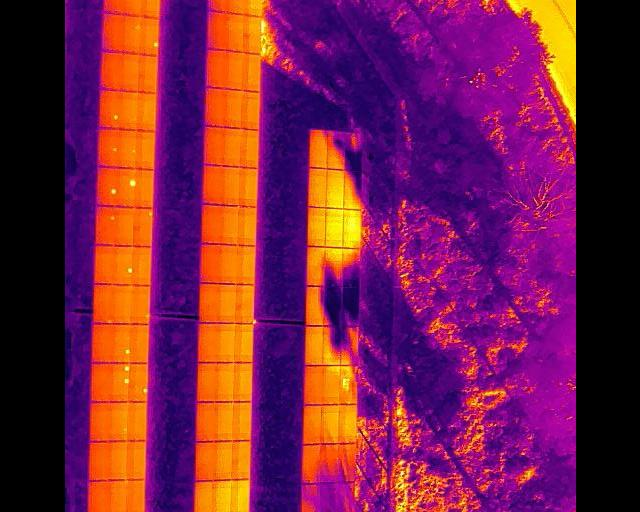Cell: (94, 205, 118, 245), (92, 285, 115, 324), (97, 128, 118, 167), (97, 167, 118, 206), (98, 90, 119, 129), (133, 208, 152, 247), (140, 17, 158, 55), (129, 364, 147, 402), (118, 168, 135, 208), (132, 285, 149, 324), (116, 246, 133, 285), (118, 130, 135, 168), (114, 324, 130, 363), (141, 0, 158, 18)
Cell-Multi: (113, 363, 130, 402)
No-Anomaly: (93, 246, 115, 285), (92, 324, 114, 363), (203, 87, 224, 127), (205, 51, 227, 89), (100, 52, 122, 90), (91, 364, 113, 402), (196, 362, 216, 402), (195, 402, 215, 442), (207, 12, 227, 51), (199, 244, 219, 283), (197, 324, 217, 363), (90, 442, 110, 481), (90, 402, 110, 441), (236, 206, 255, 246), (232, 362, 251, 402), (204, 127, 224, 165), (198, 284, 217, 324), (127, 401, 146, 441), (308, 130, 327, 169), (235, 246, 254, 285), (231, 402, 250, 441), (200, 205, 219, 244), (136, 92, 155, 131), (104, 14, 124, 51), (306, 247, 324, 288), (203, 164, 221, 205), (220, 128, 239, 166), (240, 53, 259, 91), (138, 54, 157, 92), (136, 131, 155, 169), (324, 208, 342, 248), (307, 168, 325, 208), (304, 326, 322, 366), (301, 444, 319, 484), (195, 442, 213, 482), (135, 168, 153, 208), (231, 440, 249, 480), (325, 169, 343, 208), (321, 366, 339, 405), (304, 366, 322, 405), (303, 405, 321, 444), (239, 129, 257, 168), (234, 285, 252, 324), (213, 442, 231, 481), (130, 324, 148, 363), (127, 441, 145, 480), (234, 323, 252, 362), (307, 207, 324, 248), (242, 15, 260, 53), (240, 91, 258, 129), (239, 168, 257, 206), (86, 481, 108, 512), (342, 208, 359, 248), (216, 323, 233, 363), (216, 363, 233, 403), (110, 402, 127, 442), (338, 405, 355, 444), (221, 167, 238, 206), (219, 206, 236, 245), (123, 16, 140, 55), (116, 285, 133, 324), (217, 285, 234, 324), (321, 406, 338, 444), (133, 247, 150, 285), (118, 92, 135, 130), (215, 402, 231, 442), (224, 89, 240, 128), (219, 245, 235, 284), (110, 441, 126, 480), (125, 480, 144, 512), (122, 54, 138, 92), (118, 207, 133, 246), (229, 480, 247, 512), (227, 14, 242, 52), (212, 481, 230, 512), (108, 480, 125, 512), (194, 482, 212, 512), (227, 52, 241, 89), (104, 0, 125, 15), (125, 0, 141, 16), (208, 0, 228, 12), (228, 0, 244, 13)
Shadowing: (345, 132, 363, 172), (324, 247, 342, 287), (322, 326, 340, 366), (320, 443, 338, 483), (342, 172, 360, 211), (305, 287, 323, 326), (323, 288, 341, 326), (341, 248, 358, 288), (341, 288, 358, 327), (327, 130, 344, 169), (340, 327, 357, 365), (338, 444, 354, 483), (317, 483, 337, 512), (337, 482, 353, 512), (301, 484, 318, 512)
Unclassified: (338, 366, 356, 405), (244, 0, 261, 15)
